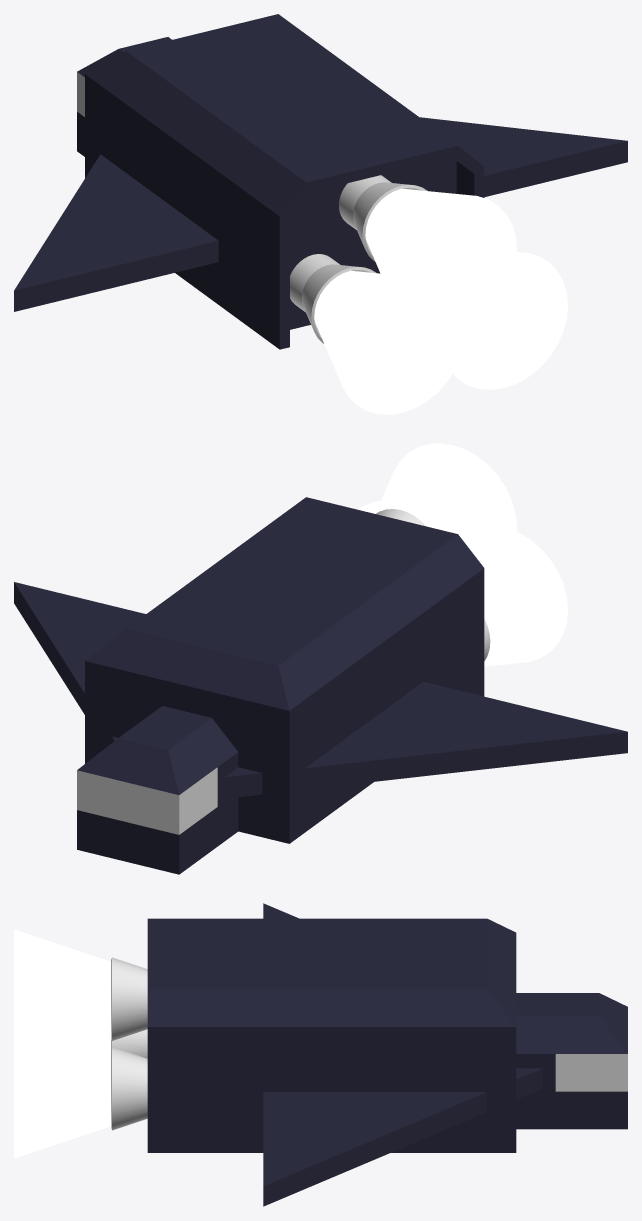
File: craft.glb
The picture shows the model from 3 angles, top to bottom: view 1: azimuth 30°, elevation 25°; view 2: azimuth 150°, elevation 25°; view 3: azimuth 270°, elevation 25°; orthographic projection. The views are drawn at different scales.
Parts seen in each view (by area): view 1: Cube, Cylinder.002, Cylinder.001, Cylinder.003, Cylinder; view 2: Cube, Cylinder.001, Cylinder.002; view 3: Cube, Cylinder.003, Cylinder.001, Cylinder.
Part boxes in pixels (bbox=[...]): Cube: bbox=[14, 14, 627, 349]; Cylinder.002: bbox=[314, 270, 465, 414]; Cylinder.001: bbox=[365, 188, 516, 332]; Cylinder.003: bbox=[432, 251, 567, 389]; Cylinder: bbox=[290, 175, 427, 343]; Cube: bbox=[14, 497, 627, 874]; Cylinder.001: bbox=[375, 443, 516, 557]; Cylinder.002: bbox=[477, 531, 567, 666]; Cube: bbox=[147, 903, 627, 1206]; Cylinder.003: bbox=[14, 1032, 111, 1158]; Cylinder.001: bbox=[14, 929, 111, 1043]; Cylinder: bbox=[111, 957, 147, 1130].
Size of the model in its own units: 12 by 3.81 by 10.99.
